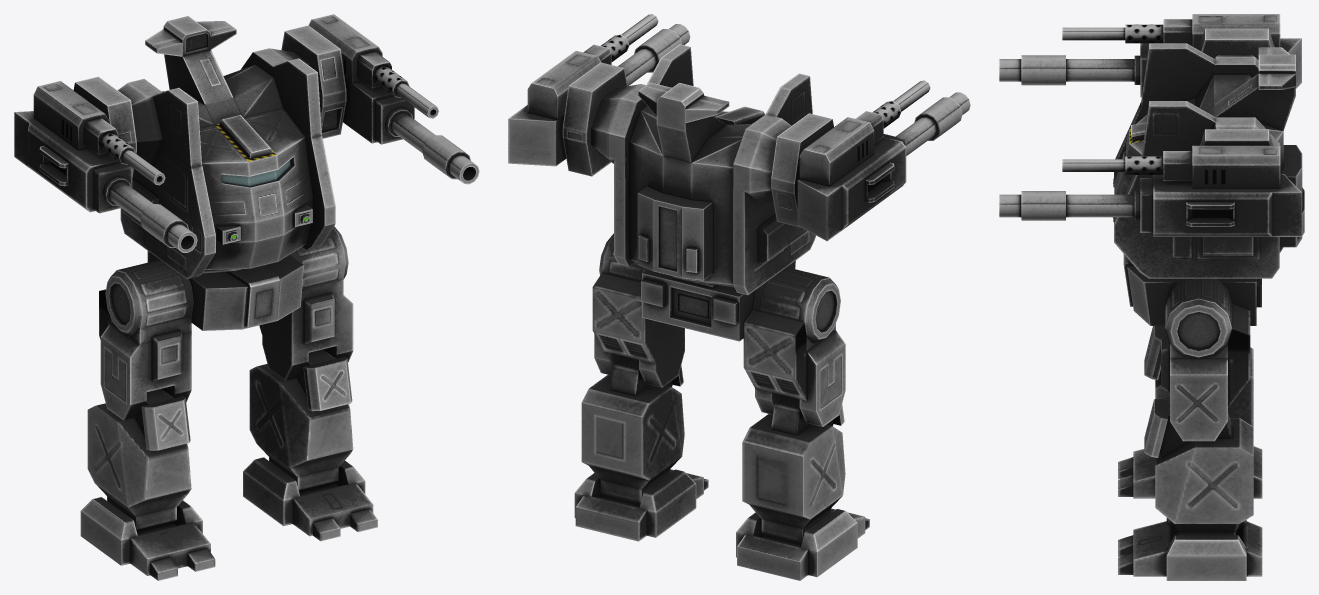
3 views of the same model, side by side, from view 1: azimuth 30°, elevation 25°; view 2: azimuth 150°, elevation 25°; view 3: azimuth 270°, elevation 25° (orthographic).
Visible parts, largest first — view 1: torso, lupperleg, lupperarm, llowerleg, rlowerleg, rupperarm, rupperleg, rfoot, lfoot, pelvis, barrel_1, barrel_2 (+2 smaller); view 2: torso, lupperarm, lupperleg, llowerleg, rlowerleg, rupperarm, rupperleg, rfoot, lfoot, pelvis, barrel_2, barrel_1; view 3: torso, rupperarm, rupperleg, rlowerleg, rfoot, lupperarm, barrel_1, barrel_2, pelvis, lfoot, llowerleg, barrel_4 (+1 smaller).
Boxes of the visible parts, x1,y1,x2,y2 form: torso: (118, 16, 335, 279); lupperleg: (99, 259, 193, 420); lupperarm: (14, 76, 136, 213); llowerleg: (87, 389, 191, 533); rlowerleg: (249, 349, 353, 493); rupperarm: (281, 14, 414, 144); rupperleg: (259, 226, 353, 380); rfoot: (243, 457, 377, 541); lfoot: (80, 497, 215, 580); pelvis: (147, 251, 303, 330); barrel_1: (391, 113, 479, 184); barrel_2: (109, 182, 197, 252); torso: (591, 44, 816, 295); lupperarm: (771, 101, 906, 241); lupperleg: (743, 267, 845, 426); llowerleg: (742, 395, 845, 545); rlowerleg: (581, 356, 684, 505); rupperarm: (508, 34, 629, 176); rupperleg: (592, 233, 684, 387); rfoot: (574, 469, 708, 541); lfoot: (736, 508, 869, 580); pelvis: (641, 260, 795, 341); barrel_2: (896, 92, 970, 155); barrel_1: (618, 24, 690, 86); torso: (1114, 43, 1304, 278); rupperarm: (1125, 129, 1301, 236); rupperleg: (1161, 278, 1250, 441); rlowerleg: (1144, 398, 1253, 535); rfoot: (1118, 518, 1262, 580); lupperarm: (1125, 14, 1301, 97); barrel_1: (999, 191, 1134, 220); barrel_2: (999, 55, 1134, 85); pelvis: (1123, 254, 1261, 325); lfoot: (1118, 446, 1262, 498); llowerleg: (1144, 326, 1253, 426); barrel_4: (1062, 27, 1125, 40).
Bounding box in the file's own units: 50.97 × 66.65 × 39.9.
Materials: 1 (1 with a texture image).
